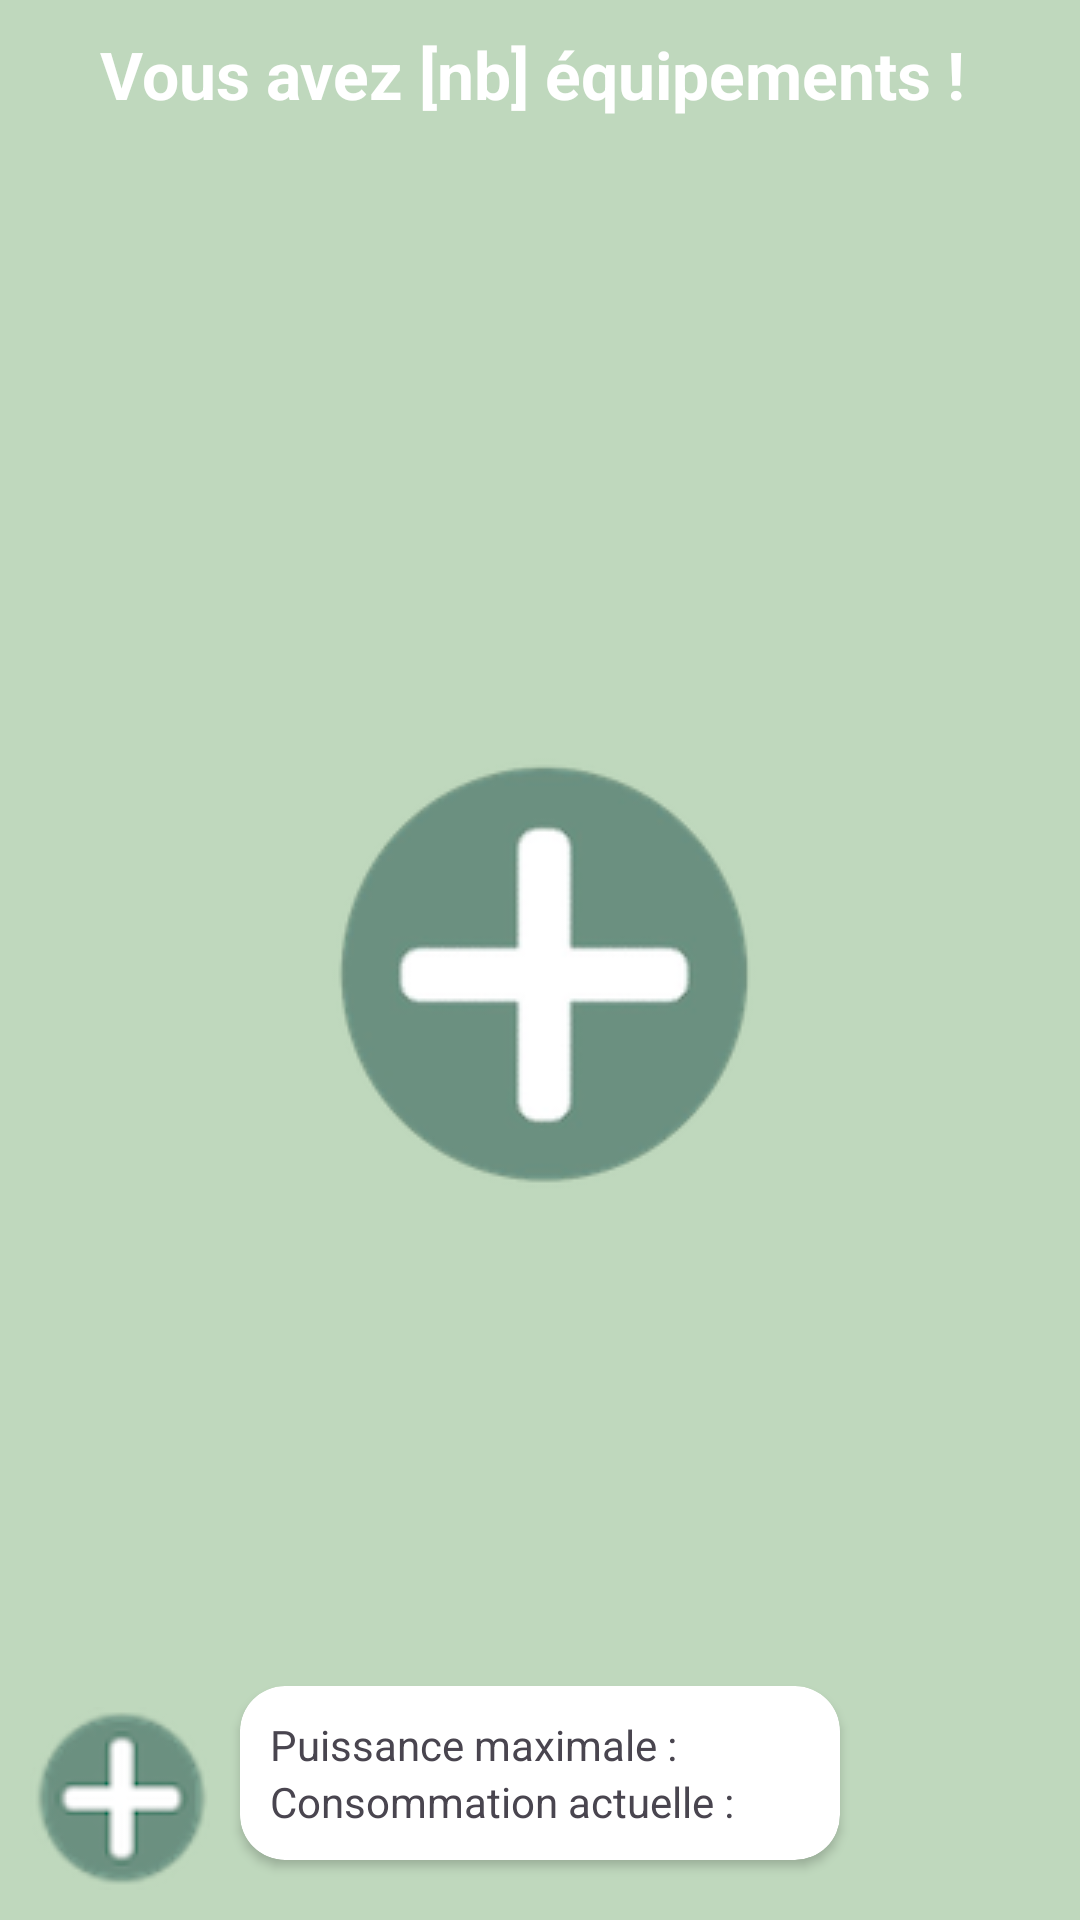

Locate icon controls on the screen. Image size 1080 x 1920, boxes as Rect(x1, y1, x2, y2).
ajout alerte petit: Rect(39, 1714, 205, 1882)
